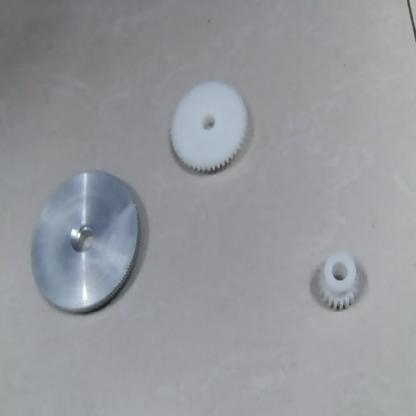FOD: (25, 166, 144, 321), (162, 80, 261, 178), (311, 250, 362, 319)
